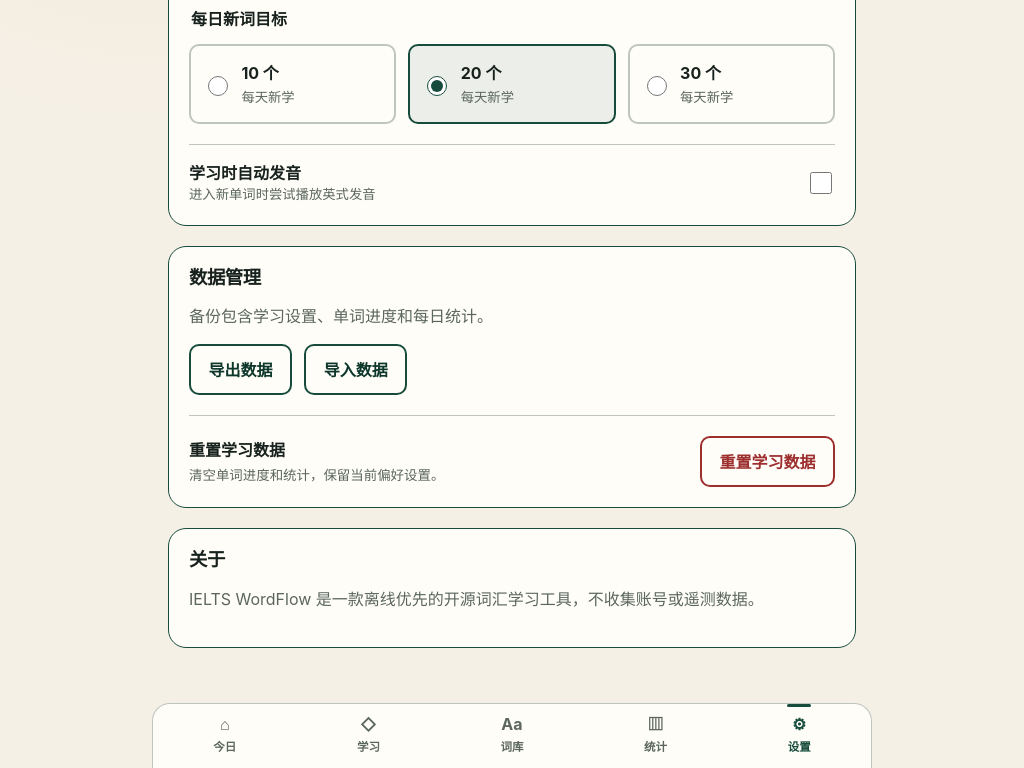
Test: SettingsPage › resets progress only behind a separate destructive confirmation
(page scrolled)
Click the button "重置学习数据".
click(767, 462)  # box [700,436,835,487]
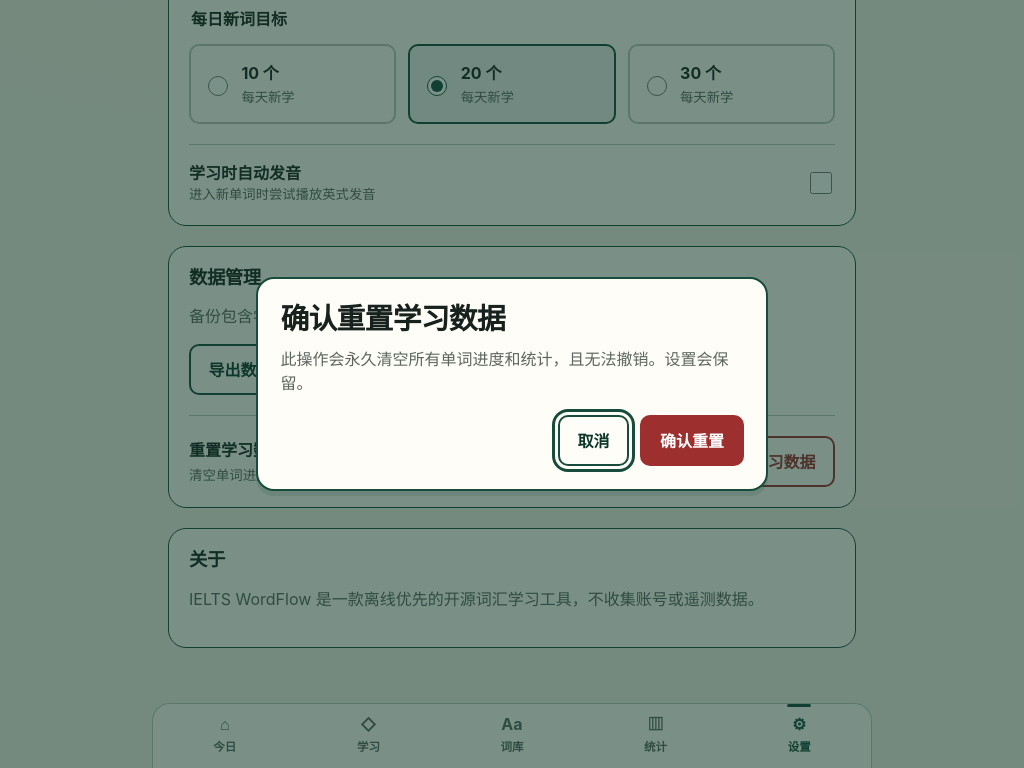
Click the button "取消".
click(594, 441)  # box [558,415,629,466]
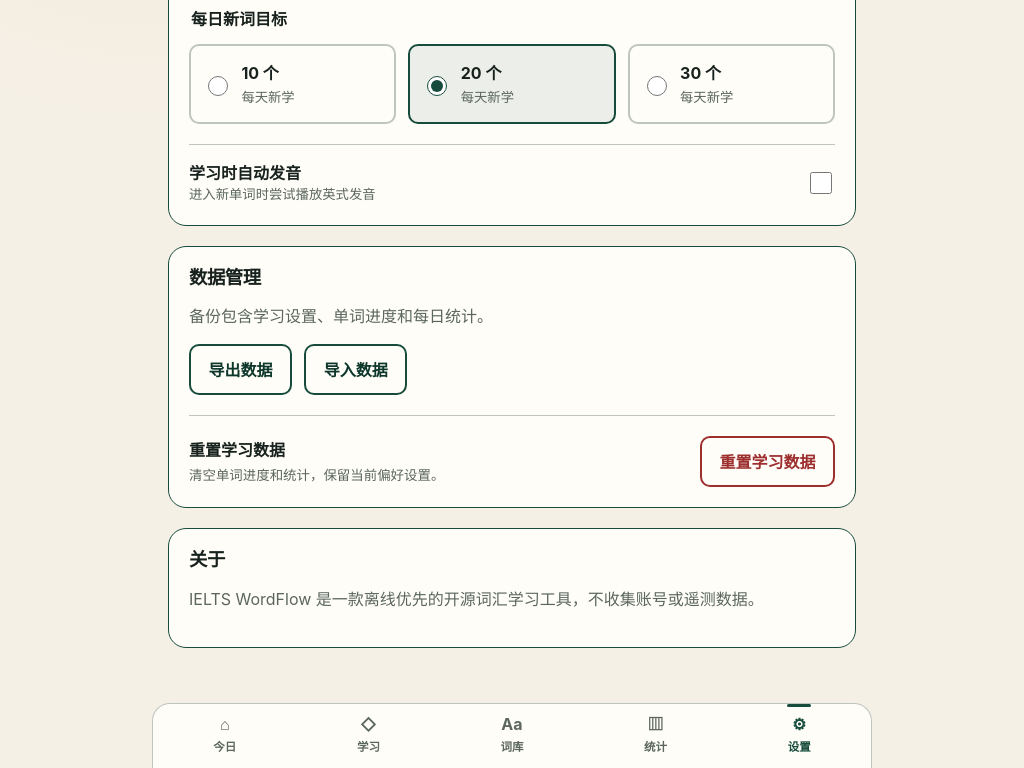
Click the button "重置学习数据".
click(767, 462)  # box [700,436,835,487]
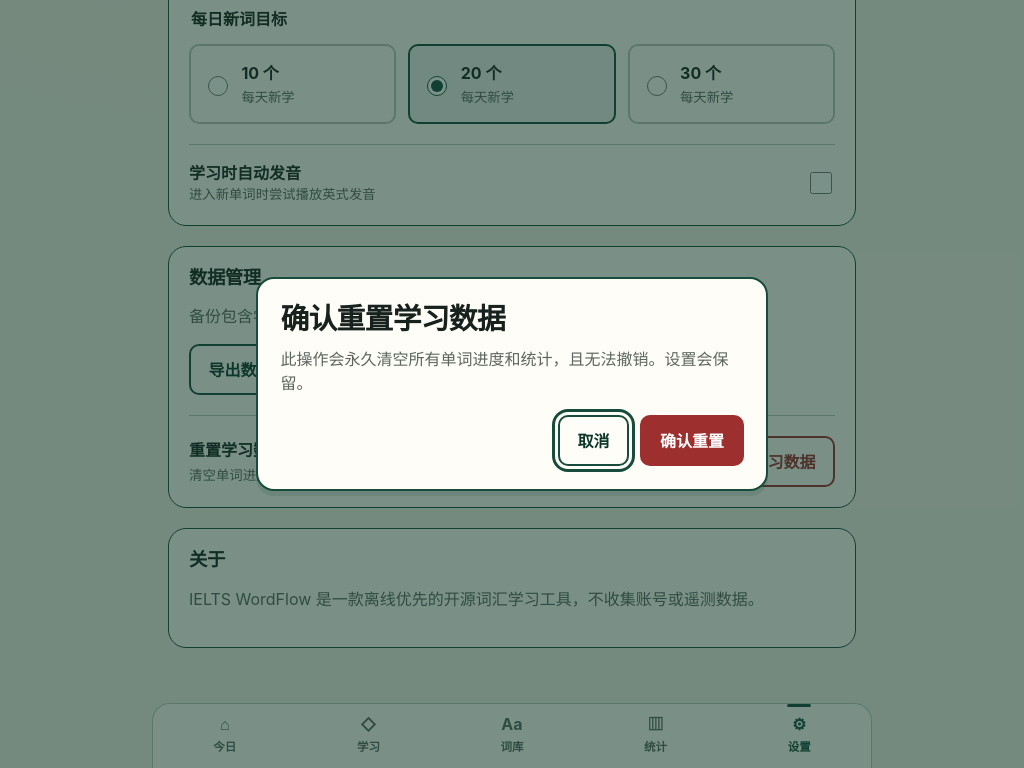
Click the button "确认重置".
click(692, 441)  # box [640,415,744,466]
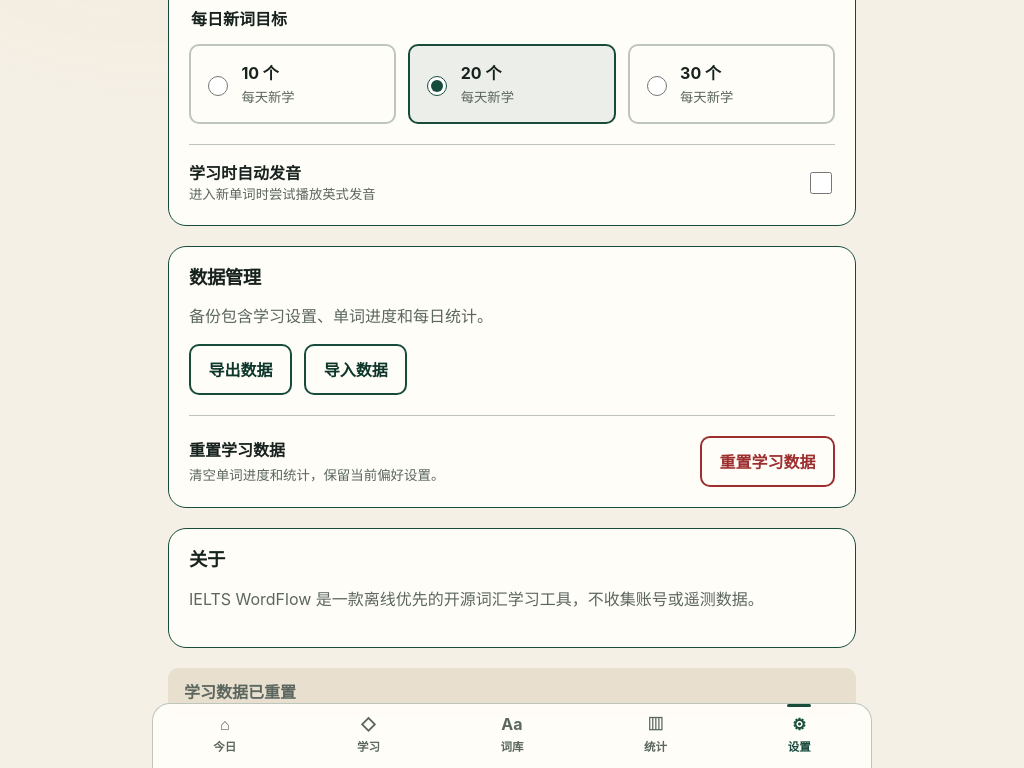
Result: the message reads "学习数据已重置" at [184,682,296,702]
